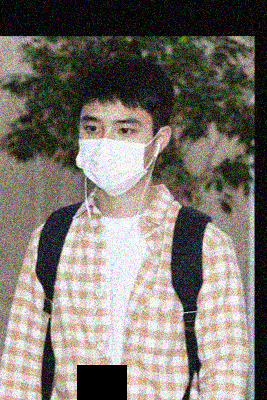with_mask: (79, 112, 155, 198)
